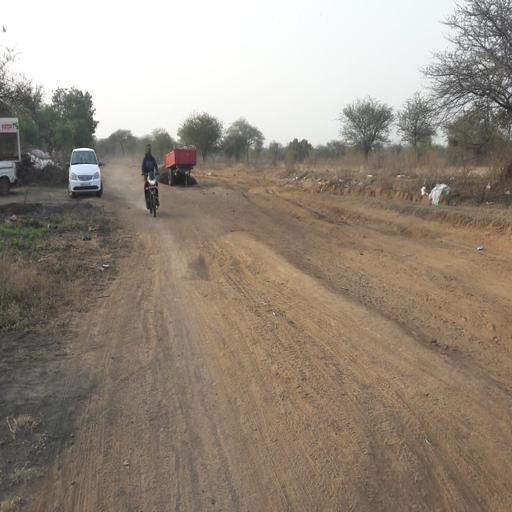vehicle_track: (50, 198, 512, 512)
